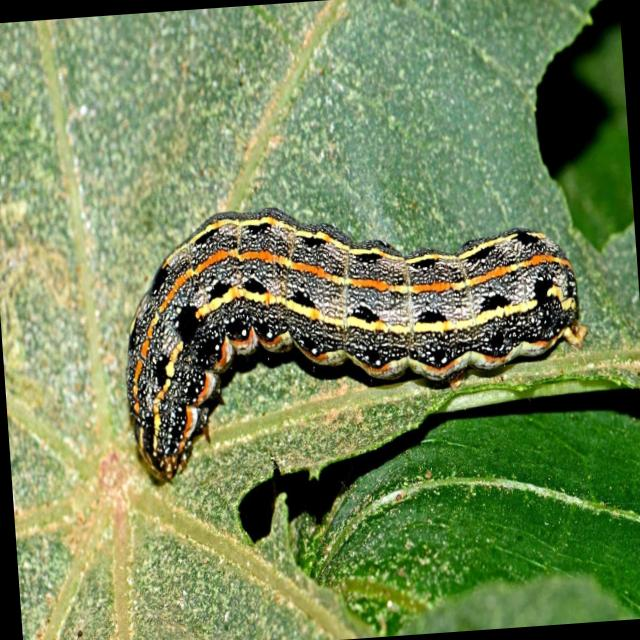Armyworm: (104, 118, 614, 550)
